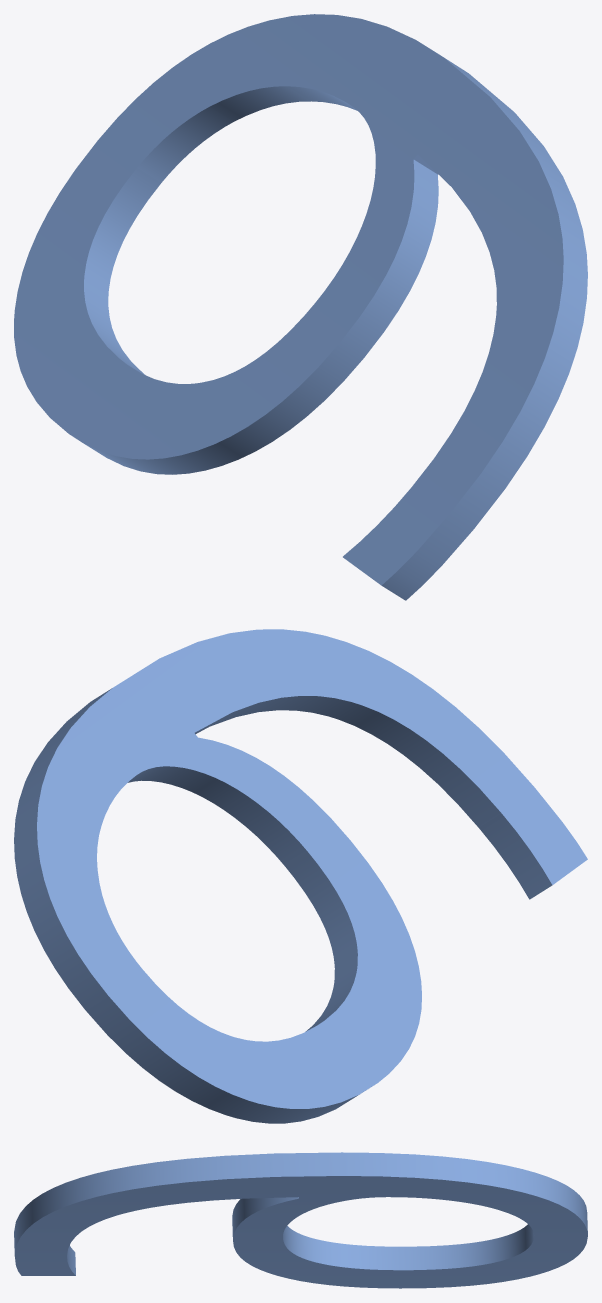
File: New_Number_6.gltf
3 views of the same model, one above another, from view 1: azimuth 30°, elevation 25°; view 2: azimuth 150°, elevation 25°; view 3: azimuth 270°, elevation 25° (orthographic). The views are drawn at different scales.
Parts seen in each view (by area): view 1: Part 276; view 2: Part 276; view 3: Part 276.
Part boxes in pixels (x1,y1,x2,y2): Part 276: (14, 14, 587, 600); Part 276: (14, 629, 587, 1123); Part 276: (14, 1152, 587, 1288).
Bounding box in the file's own units: 0.00284 × 0.00262 × 0.00566.
